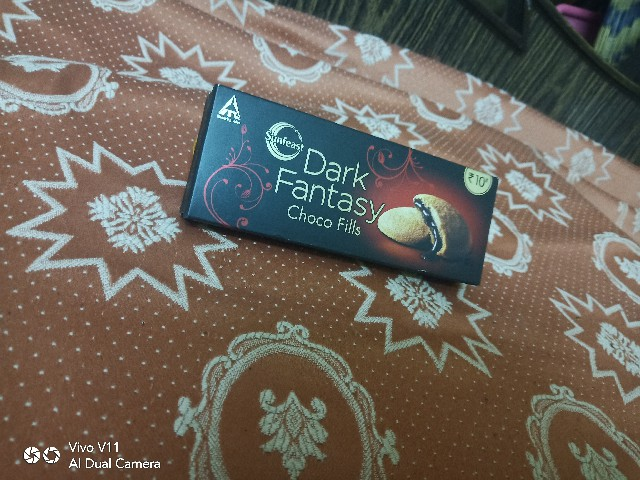darkfantasy small: (180, 63, 504, 302)
